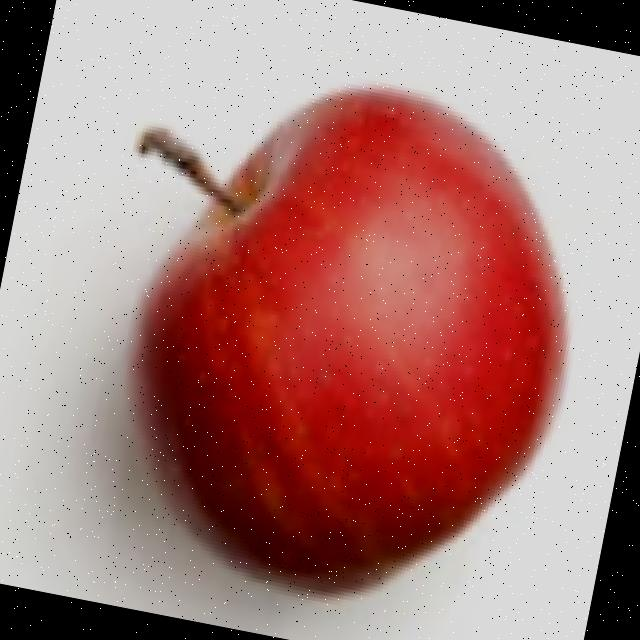Ripe: (68, 34, 622, 638)
